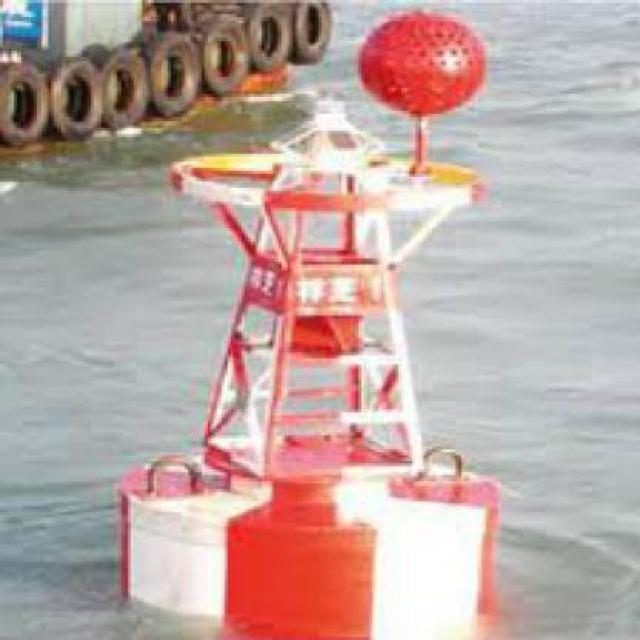buoy: (100, 10, 522, 639)
